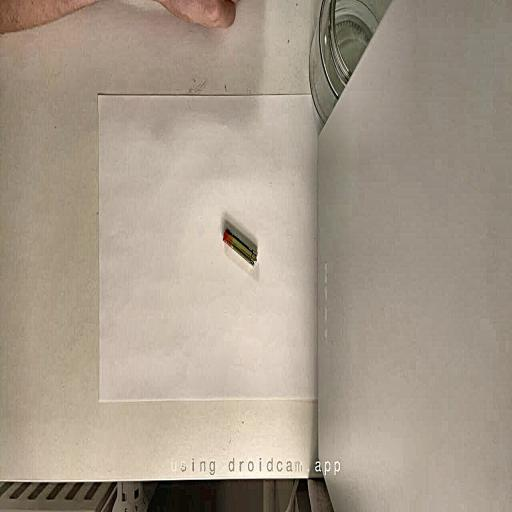PanasonicAAA: (224, 228, 256, 265)
